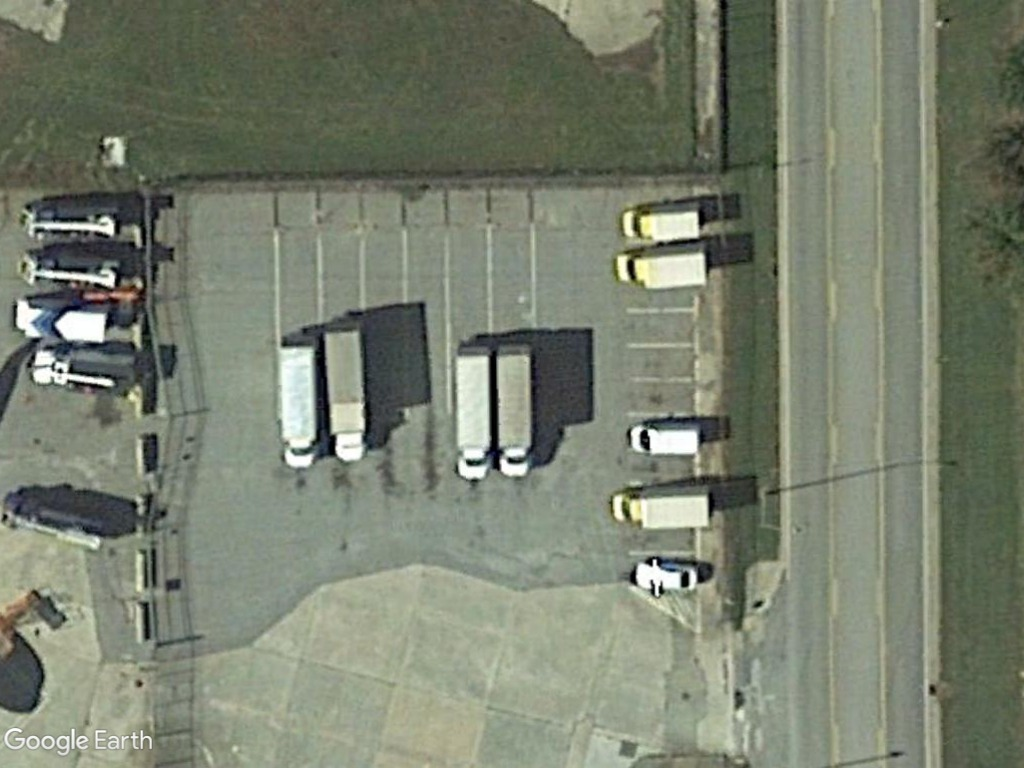truck: (319, 321, 370, 462), (449, 337, 497, 485), (277, 333, 324, 472), (491, 339, 533, 477), (611, 240, 710, 297), (609, 486, 716, 532), (617, 197, 709, 244)
van: (623, 420, 706, 460)
